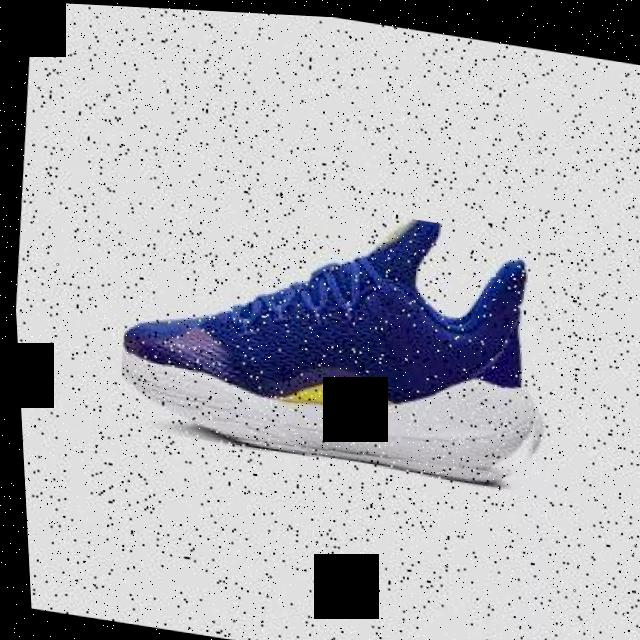shoe: (103, 172, 561, 486)
